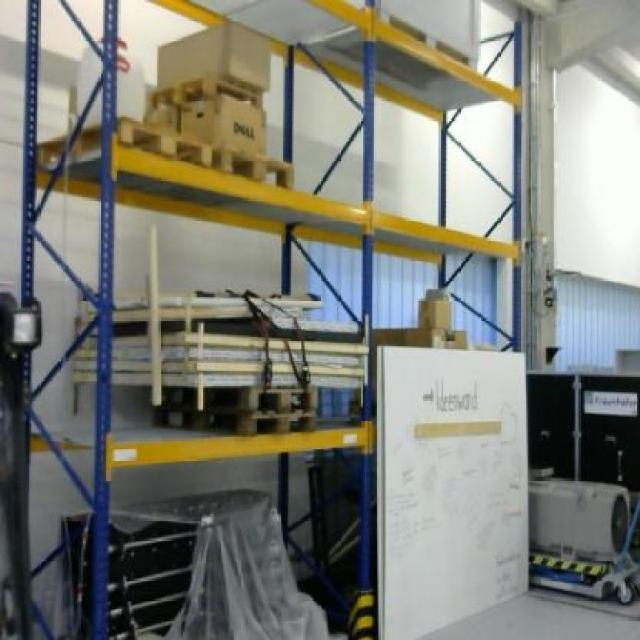box: (156, 22, 272, 90), (180, 92, 266, 156), (417, 300, 451, 329)
